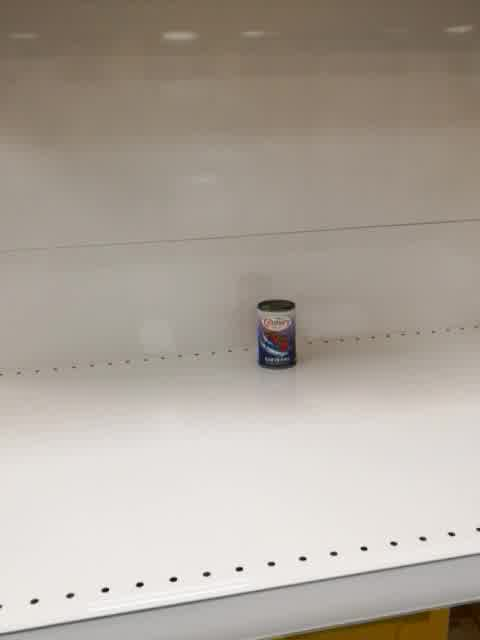sardine: (256, 299, 299, 370)
